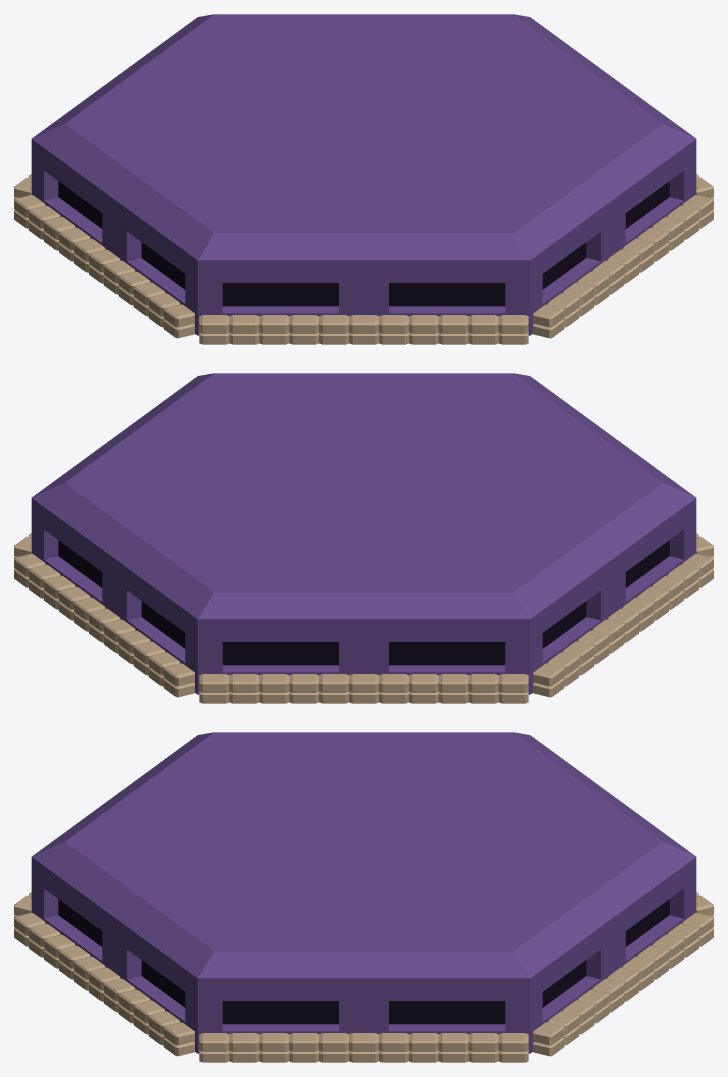
The model's file is MSI-Encampment.fbx.
3 renders of one model, top to bottom at view 1: azimuth 30°, elevation 25°; view 2: azimuth 150°, elevation 25°; view 3: azimuth 270°, elevation 25°, orthographic.
Parts seen in each view (by area): view 1: Bunker; view 2: Bunker; view 3: Bunker.
Part boxes in pixels (x1,y1,x2,y2): Bunker: [14, 14, 713, 344]; Bunker: [14, 373, 713, 703]; Bunker: [14, 732, 713, 1062].
Bounding box in the file's own units: 749 × 120 × 842.
